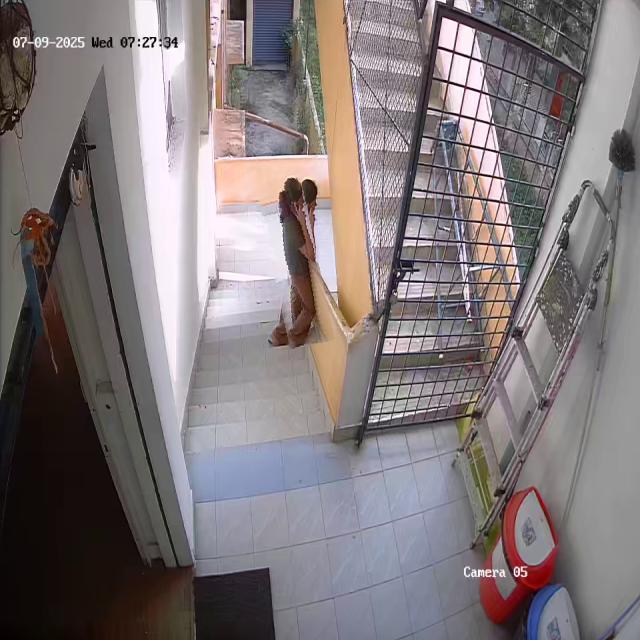person: (263, 176, 327, 348)
